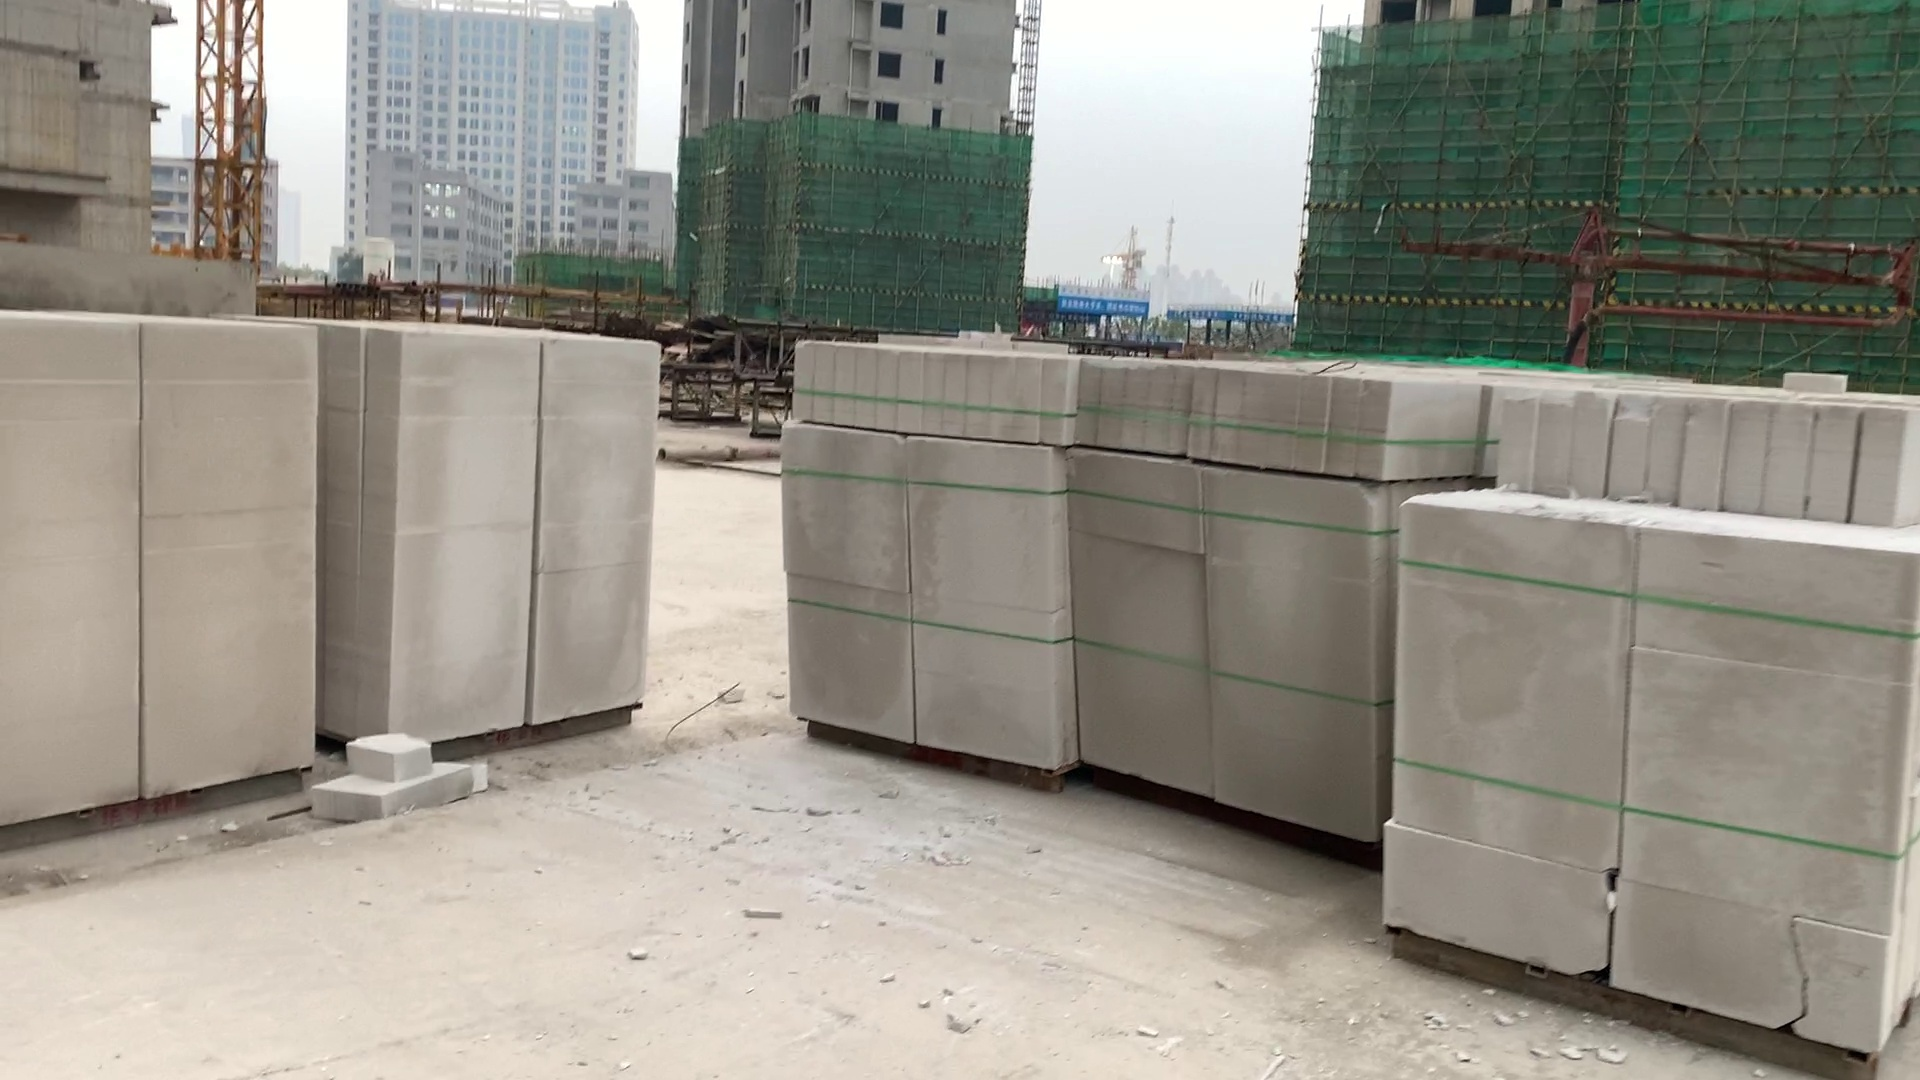brickwork: (1399, 381, 1915, 1062), (1073, 356, 1389, 862), (4, 313, 319, 807), (779, 338, 1072, 795), (335, 320, 650, 738)
